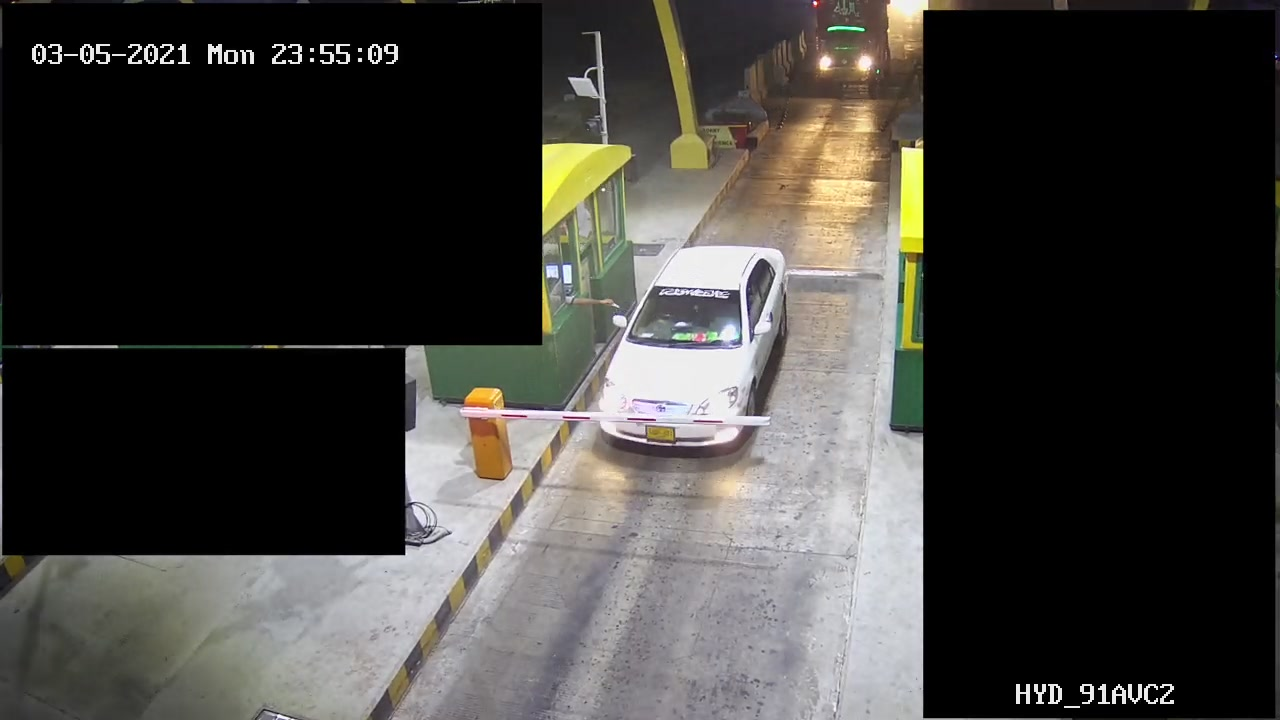F1: (583, 238, 813, 466)
